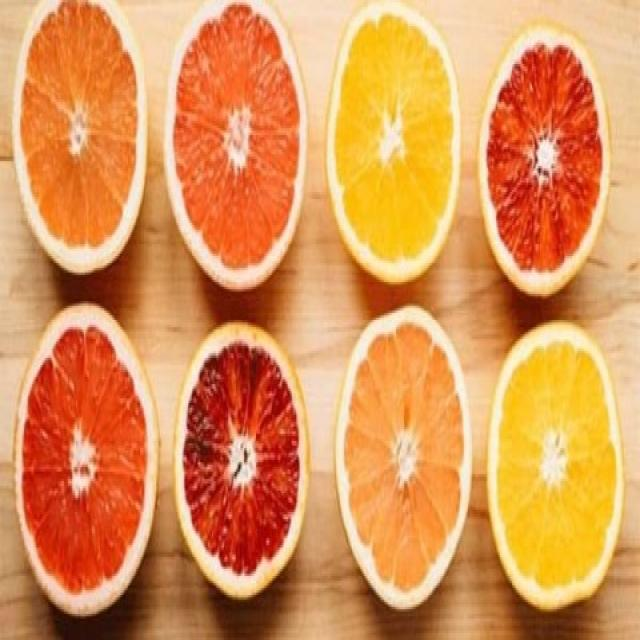orange: (13, 301, 160, 623), (334, 303, 474, 614), (165, 2, 311, 292), (486, 320, 626, 614), (323, 2, 464, 287), (173, 318, 311, 602), (11, 2, 148, 278), (477, 19, 611, 299)
